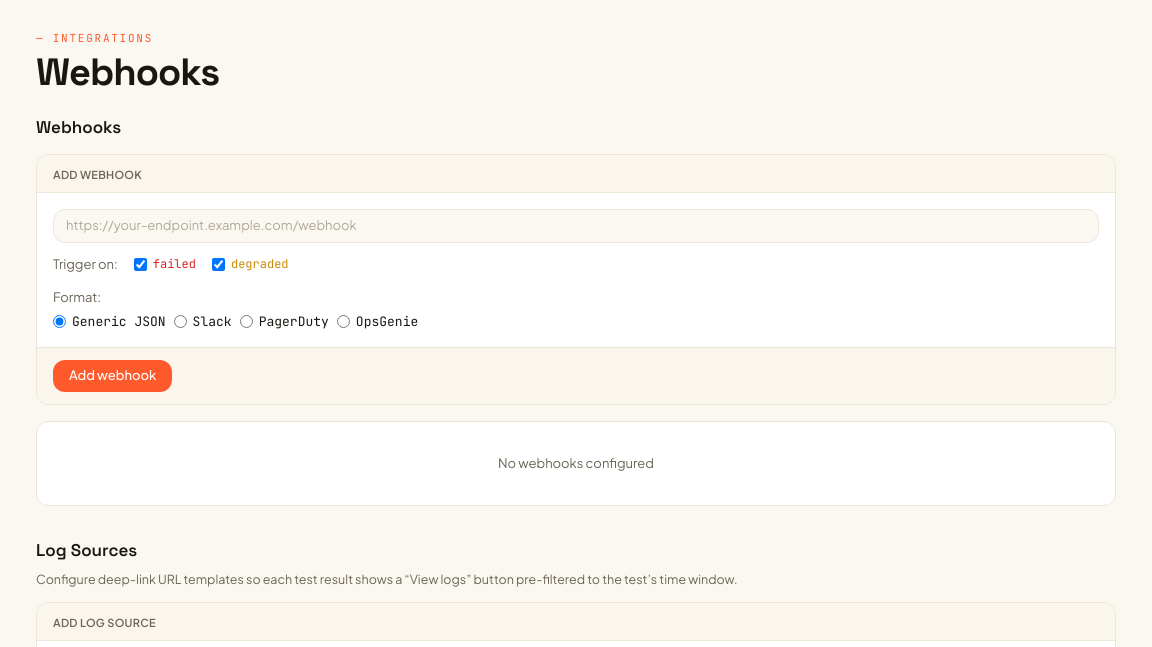
WebhooksPage — webhook create flow › toggles the "degraded" event off and checks noise prediction
The image size is (1152, 647).
Expected: the text "No webhooks configured" is shown, [36, 420, 1116, 506]
Click the checkbox labelled "degraded": point(218, 264) [212, 258, 225, 271]
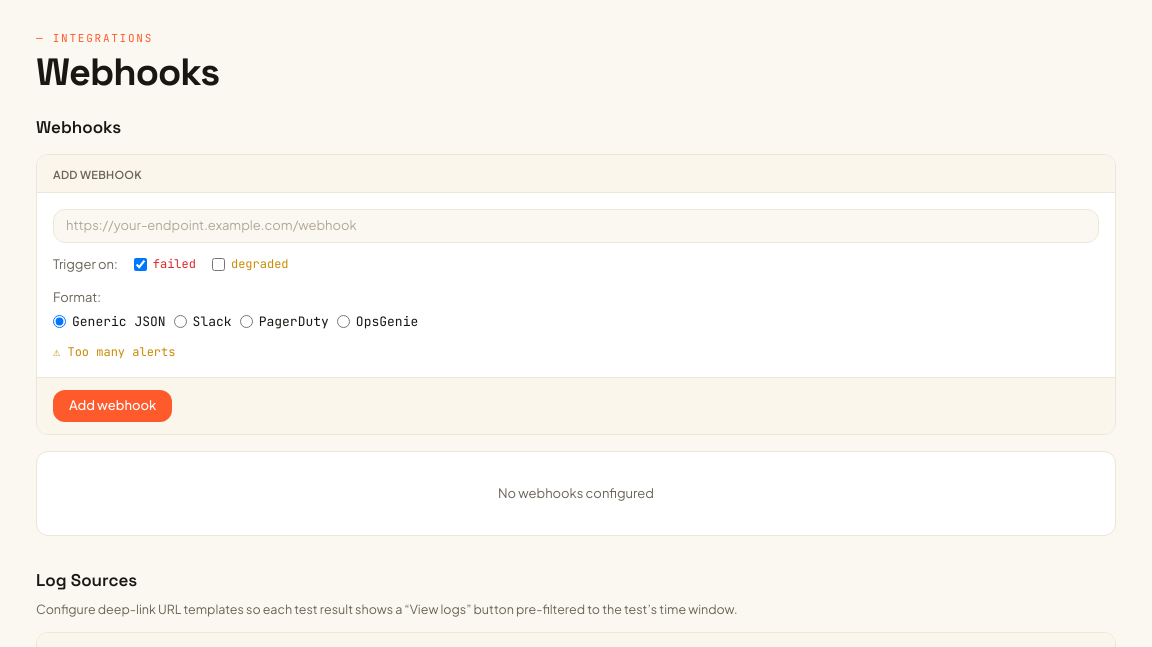
Expected: the text "⚠ Too many alerts" is shown, [53, 344, 176, 360]
